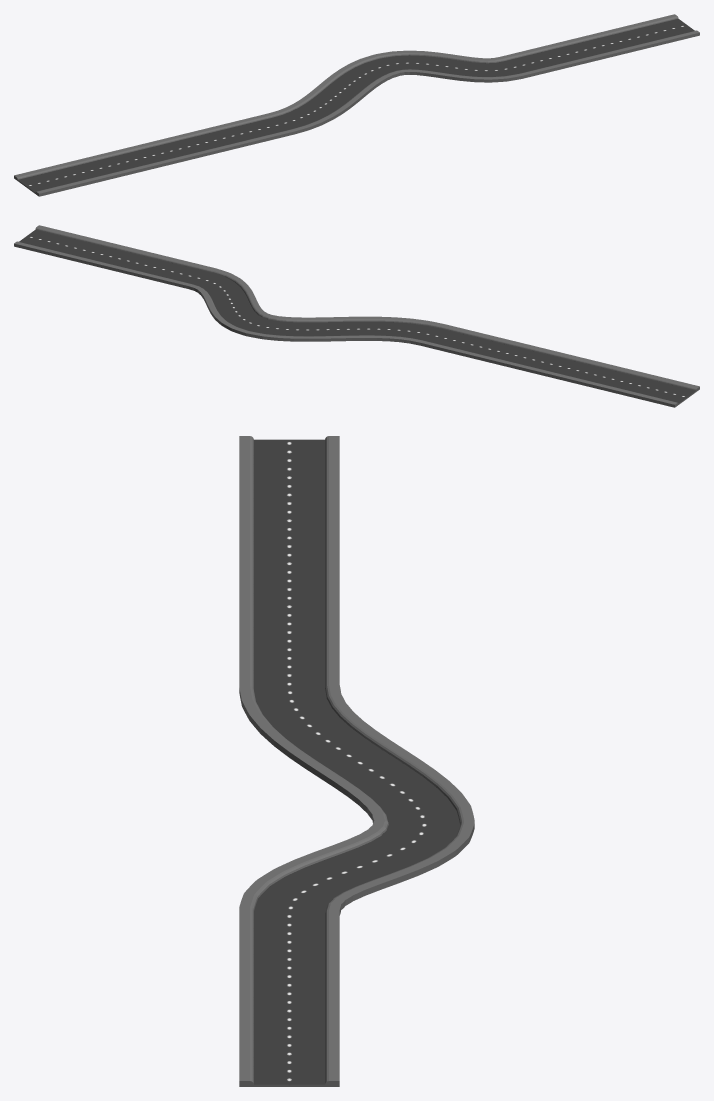
Rendered from street.glb.
3 renders of one model, top to bottom at view 1: azimuth 30°, elevation 25°; view 2: azimuth 150°, elevation 25°; view 3: azimuth 270°, elevation 25°, orthographic. The views are drawn at different scales.
Visible parts, largest first — view 1: Street; view 2: Street; view 3: Street.
Part boxes in pixels (x1,y1,x2,y2): Street: (14,14,699,196); Street: (14,225,699,407); Street: (239,436,474,1086).
Bounding box in the file's own units: 77.06 × 0.3341 × 11.9.
1 material, 1 textured.
